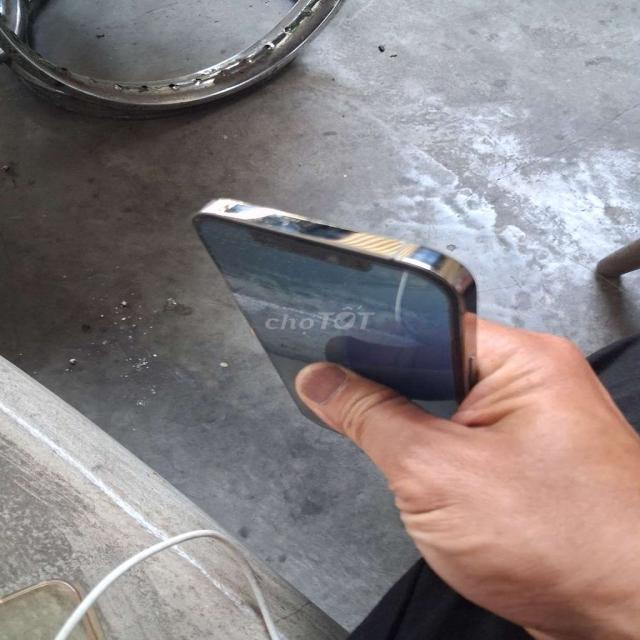gen_12_13: (192, 183, 496, 440)
